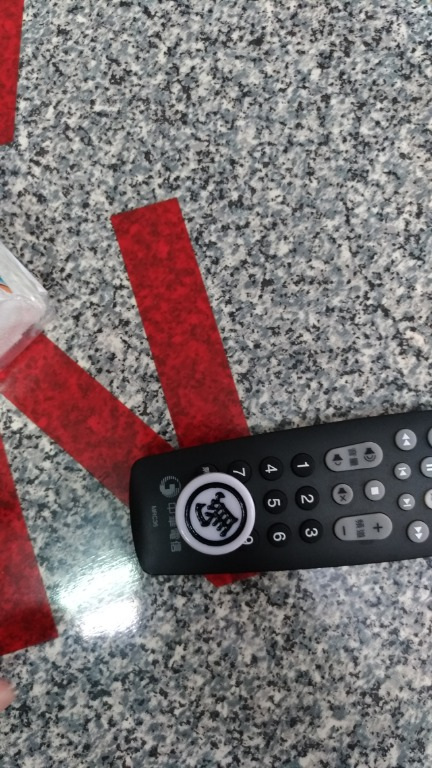b-knight: (155, 469, 274, 563)
